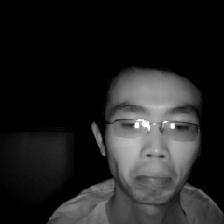sad: (80, 48, 210, 206)
